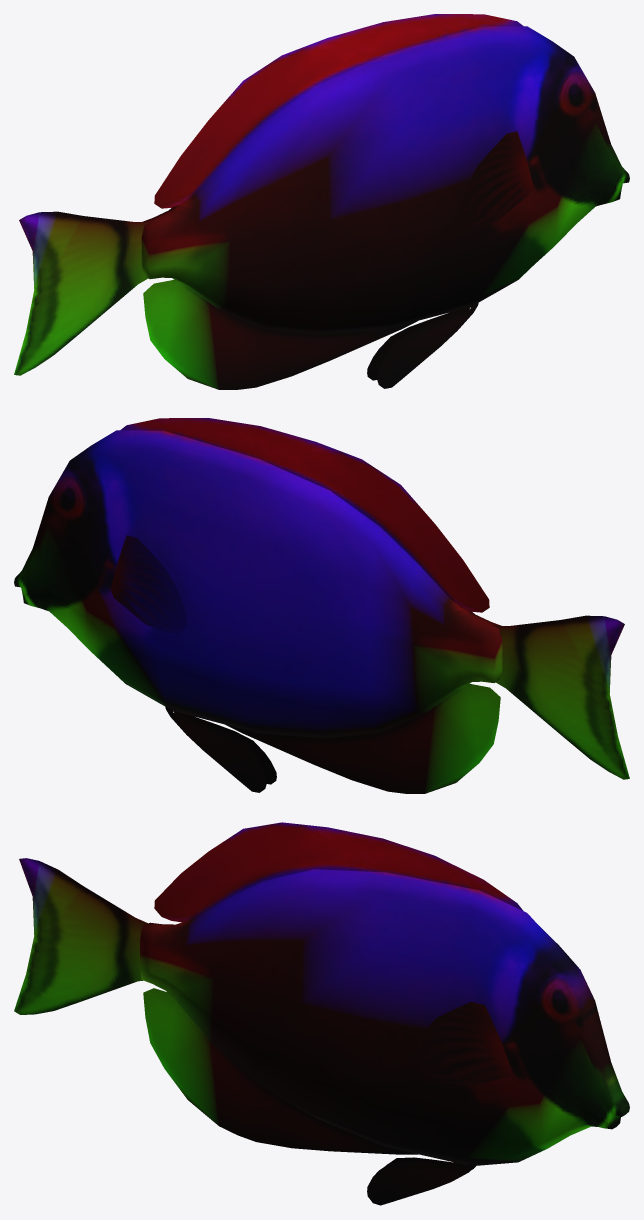
Rendered from powder_blue_tang.glb.
3 views of the same model, one above another, from view 1: azimuth 30°, elevation 25°; view 2: azimuth 150°, elevation 25°; view 3: azimuth 330°, elevation 25° (orthographic).
Parts seen in each view (by area): view 1: PowderBlueTang; view 2: PowderBlueTang; view 3: PowderBlueTang.
Boxes of the visible parts, x1,y1,x2,y2 form: PowderBlueTang: (14, 14, 629, 389); PowderBlueTang: (14, 418, 629, 793); PowderBlueTang: (14, 822, 629, 1205).
Bounding box in the file's own units: 1 × 0.5636 × 0.1206.
1 material, 1 textured.
